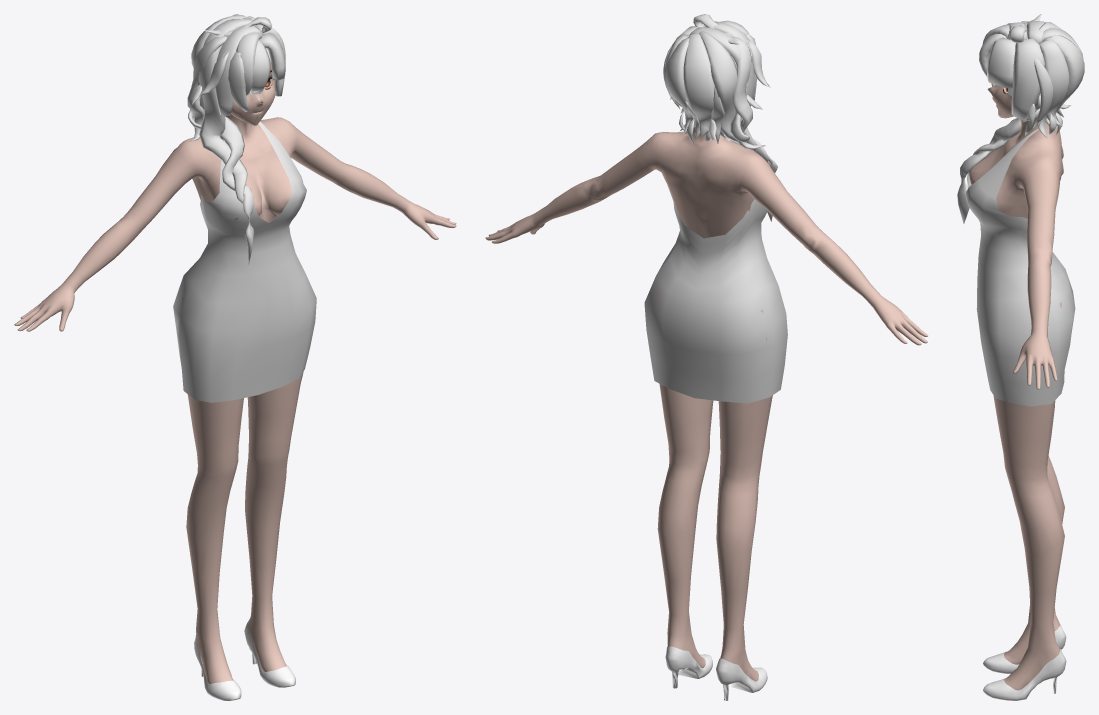
Rendered from vtuber.fbx.
The picture shows the model from 3 angles, left to right: view 1: azimuth 30°, elevation 25°; view 2: azimuth 150°, elevation 25°; view 3: azimuth 270°, elevation 25°; orthographic projection.
Parts seen in each view (by area): view 1: Girl.005, Sphere, HairOut; view 2: Girl.005, Sphere, HairOut; view 3: Girl.005, Sphere, HairOut.
Part boxes in pixels (x1,y1,x2,y2): Girl.005: (14,58,456,700); Sphere: (173,121,316,402); HairOut: (187,14,285,264); Girl.005: (485,128,928,700); Sphere: (644,138,787,403); HairOut: (663,14,777,221); Girl.005: (969,85,1066,700); Sphere: (966,124,1075,406); HairOut: (957,14,1084,223).
Size of the model in its own units: 29.64 by 118 by 170.
